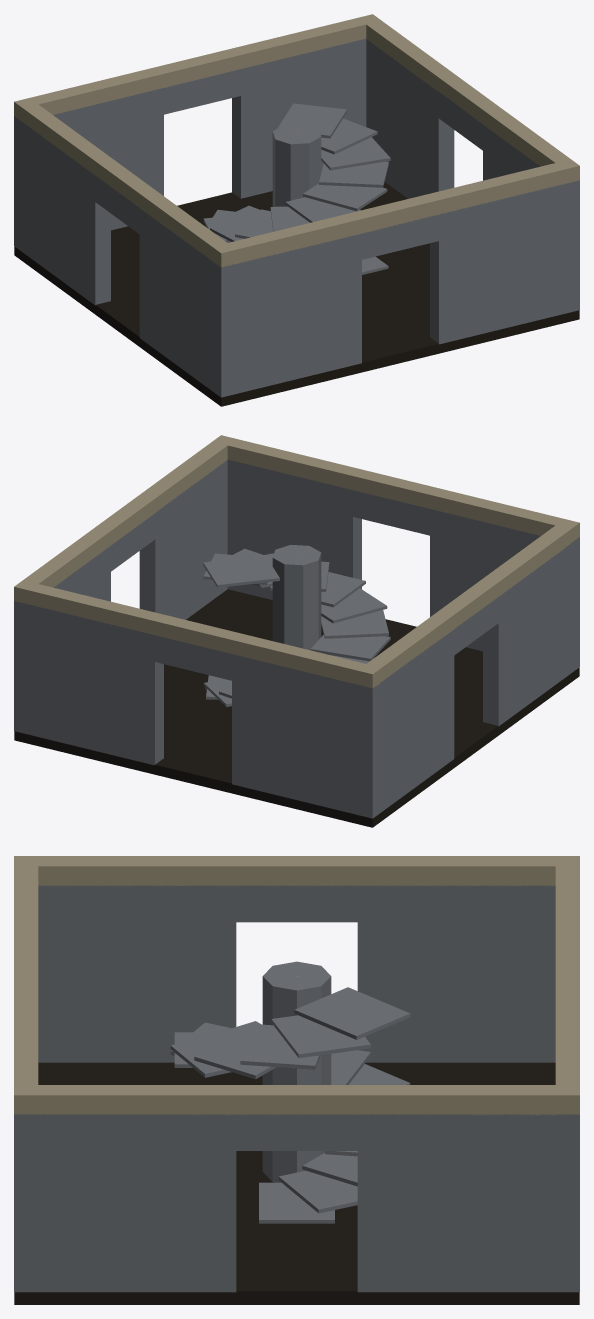
File: KeepStairwell.fbx
3 views of the same model, one above another, from view 1: azimuth 30°, elevation 25°; view 2: azimuth 150°, elevation 25°; view 3: azimuth 270°, elevation 25° (orthographic). The views are drawn at different scales.
Visible parts, largest first — view 1: KeepStairwell; view 2: KeepStairwell; view 3: KeepStairwell.
Part boxes in pixels (x1,y1,x2,y2): KeepStairwell: (14, 14, 579, 406); KeepStairwell: (14, 435, 579, 827); KeepStairwell: (14, 856, 579, 1304).
Size of the model in its own units: 1202 by 492 by 1202.
4 materials, 4 textured.
